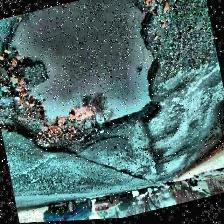pothole: (0, 0, 177, 176)
